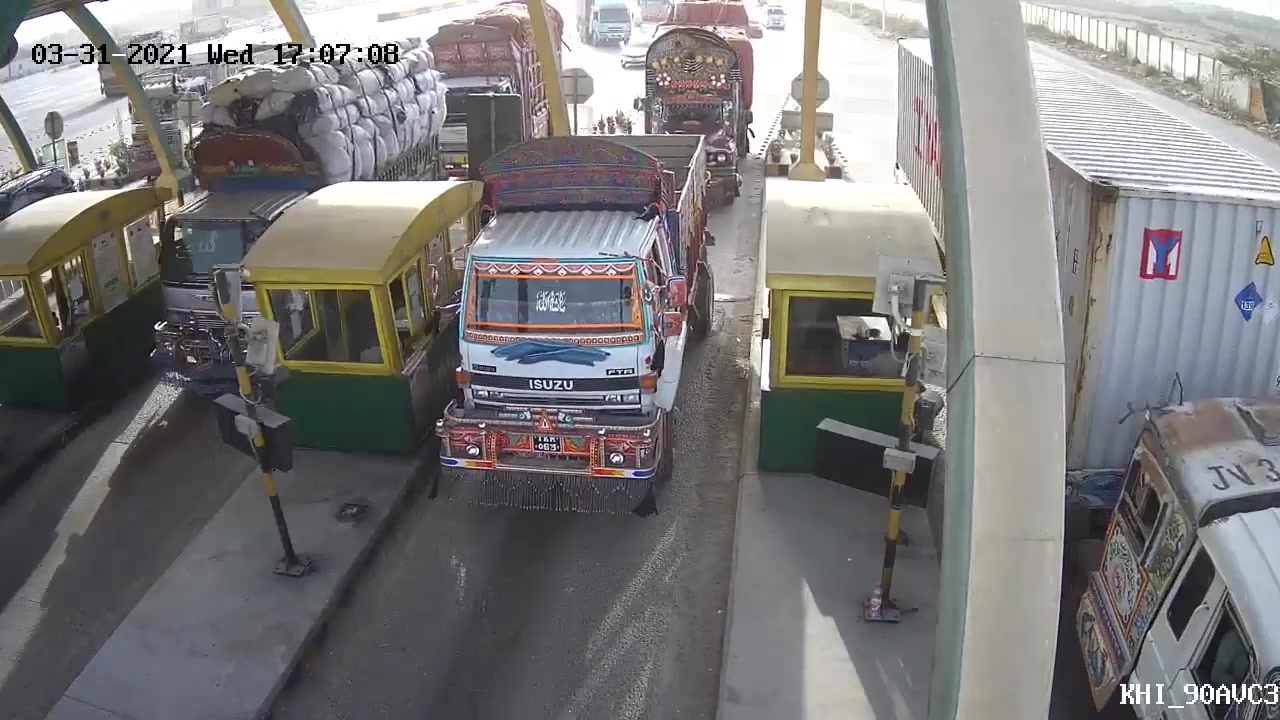F5: (429, 121, 715, 522)
